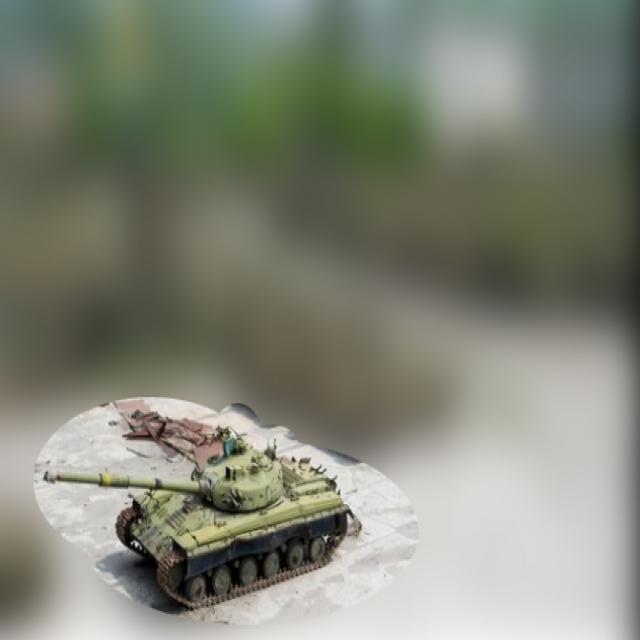tank: (39, 434, 350, 608)
